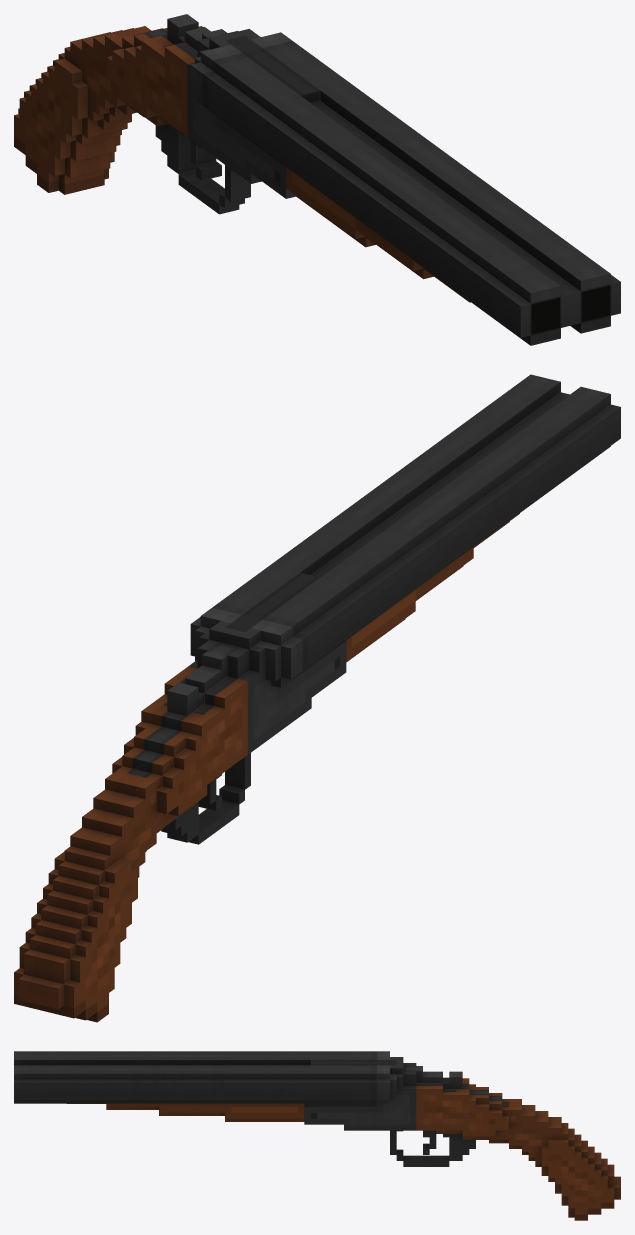
Rendered from RD_DUPLET.glb.
3 renders of one model, top to bottom at view 1: azimuth 30°, elevation 25°; view 2: azimuth 150°, elevation 25°; view 3: azimuth 270°, elevation 25°, orthographic. The views are drawn at different scales.
Visible parts, largest first — view 1: SAWED_OFF_BARREL, SAWED_OFF; view 2: SAWED_OFF, SAWED_OFF_BARREL; view 3: SAWED_OFF_BARREL, SAWED_OFF.
Part boxes in pixels (left/top/right/bottom): SAWED_OFF_BARREL: left=202, top=35, right=620, bottom=345; SAWED_OFF: left=14, top=14, right=295, bottom=214; SAWED_OFF: left=14, top=607, right=346, bottom=1022; SAWED_OFF_BARREL: left=212, top=374, right=620, bottom=686; SAWED_OFF_BARREL: left=14, top=1051, right=396, bottom=1121; SAWED_OFF: left=304, top=1051, right=620, bottom=1220.
Size of the model in its own units: 0.0984 by 0.2461 by 0.9055.
Materials: 1 (1 with a texture image).
